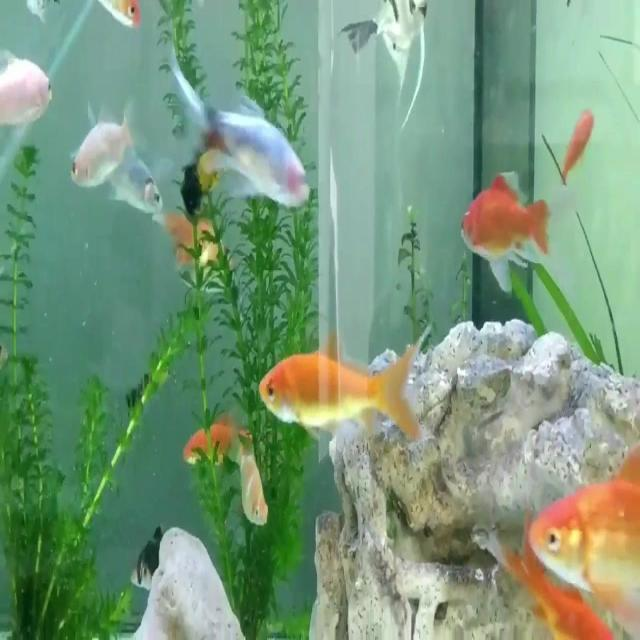GoldFish: (248, 323, 431, 447), (522, 447, 640, 629), (443, 157, 559, 294)
